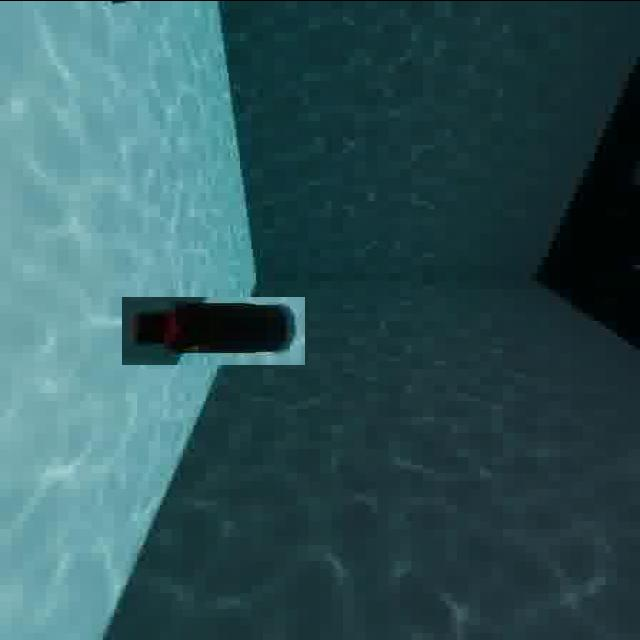Cylinder: (122, 296, 306, 365)
